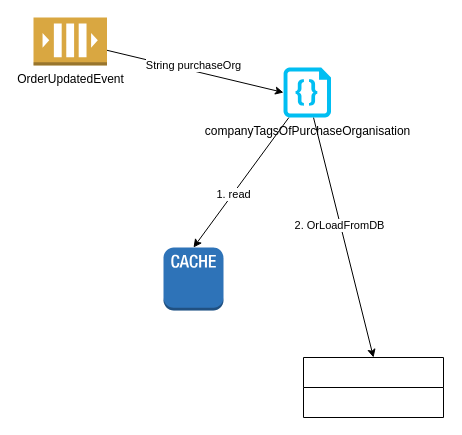
The diagram is 462 pixels wide and 435 high, and some of its shapes have lost their labels. Each missing label, with the centre of its shape:
ehcache purchaseOrgEnumEntry: the point at 193,278
t_shared_company: the point at 373,387
